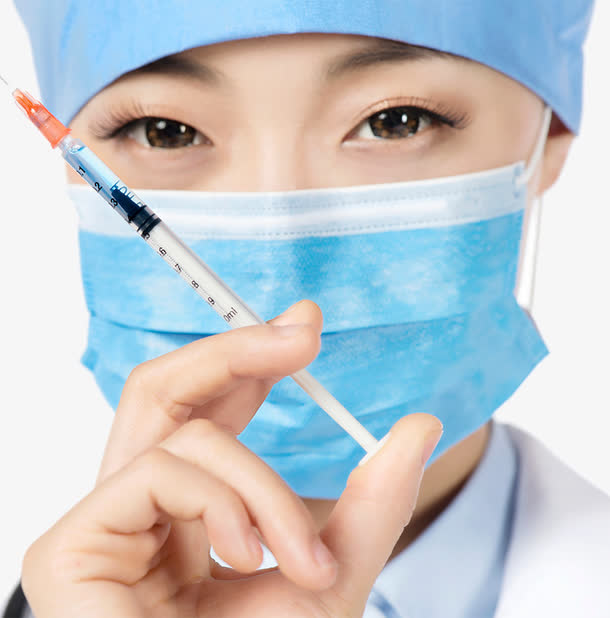mask: (38, 150, 535, 498)
